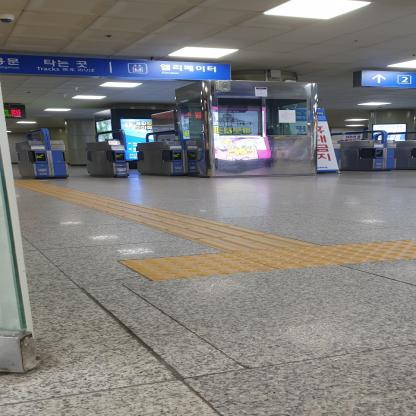go: (187, 234, 323, 252), (159, 226, 273, 240)
stop: (116, 252, 279, 280), (227, 245, 391, 270), (324, 240, 416, 260)
